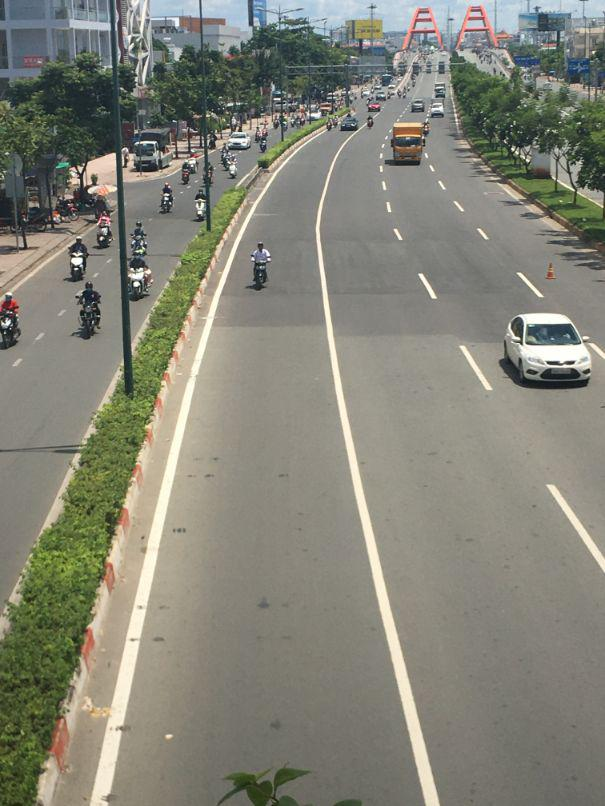car: (503, 313, 593, 388), (227, 136, 250, 153), (341, 118, 359, 132), (411, 101, 425, 115), (430, 105, 443, 118)
motorbike: (1, 307, 23, 350), (128, 267, 151, 301), (249, 261, 269, 292), (70, 248, 87, 279), (160, 182, 173, 213), (181, 159, 195, 182)
truck: (134, 126, 178, 174), (390, 124, 424, 167)
